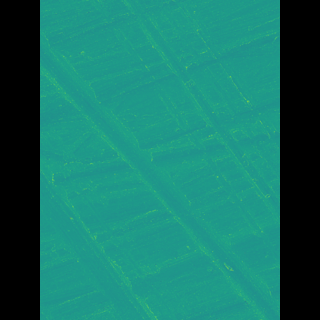Loch: (70, 28, 250, 320), (128, 0, 250, 228), (69, 166, 156, 320)
